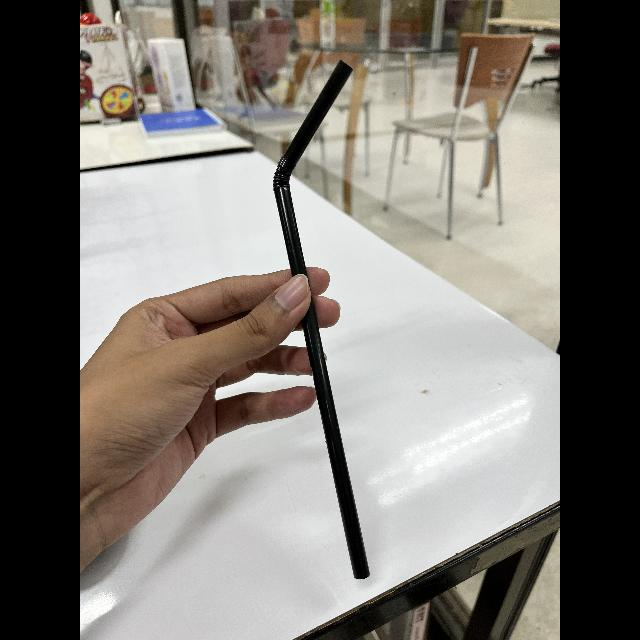straw: (266, 53, 376, 589)
